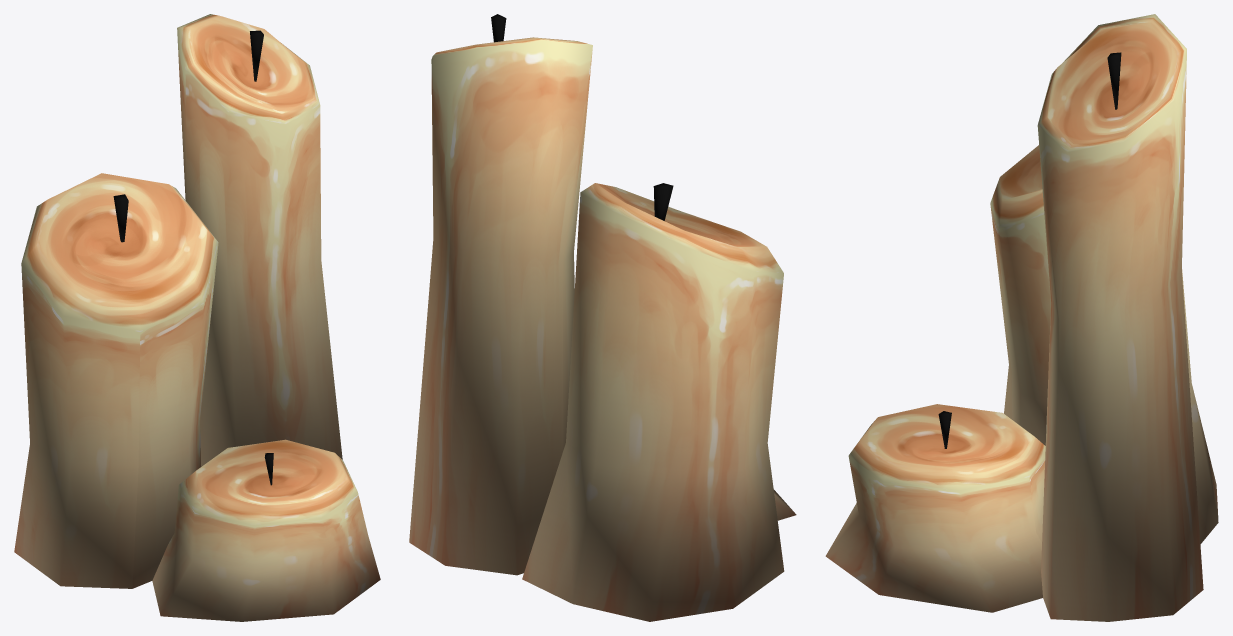
Rendered from SM_PROP_candle_dungeon_09.fbx.
3 views of the same model, side by side, from view 1: azimuth 30°, elevation 25°; view 2: azimuth 150°, elevation 25°; view 3: azimuth 270°, elevation 25° (orthographic). The views are drawn at different scales.
Parts seen in each view (by area): view 1: SM_PROP_candle_dungeon_09; view 2: SM_PROP_candle_dungeon_09; view 3: SM_PROP_candle_dungeon_09.
Part boxes in pixels (<box>): SM_PROP_candle_dungeon_09: <box>14,14,380,621</box>; SM_PROP_candle_dungeon_09: <box>409,14,796,621</box>; SM_PROP_candle_dungeon_09: <box>825,14,1218,621</box>.
Size of the model in its own units: 16.06 by 24.42 by 16.19.
